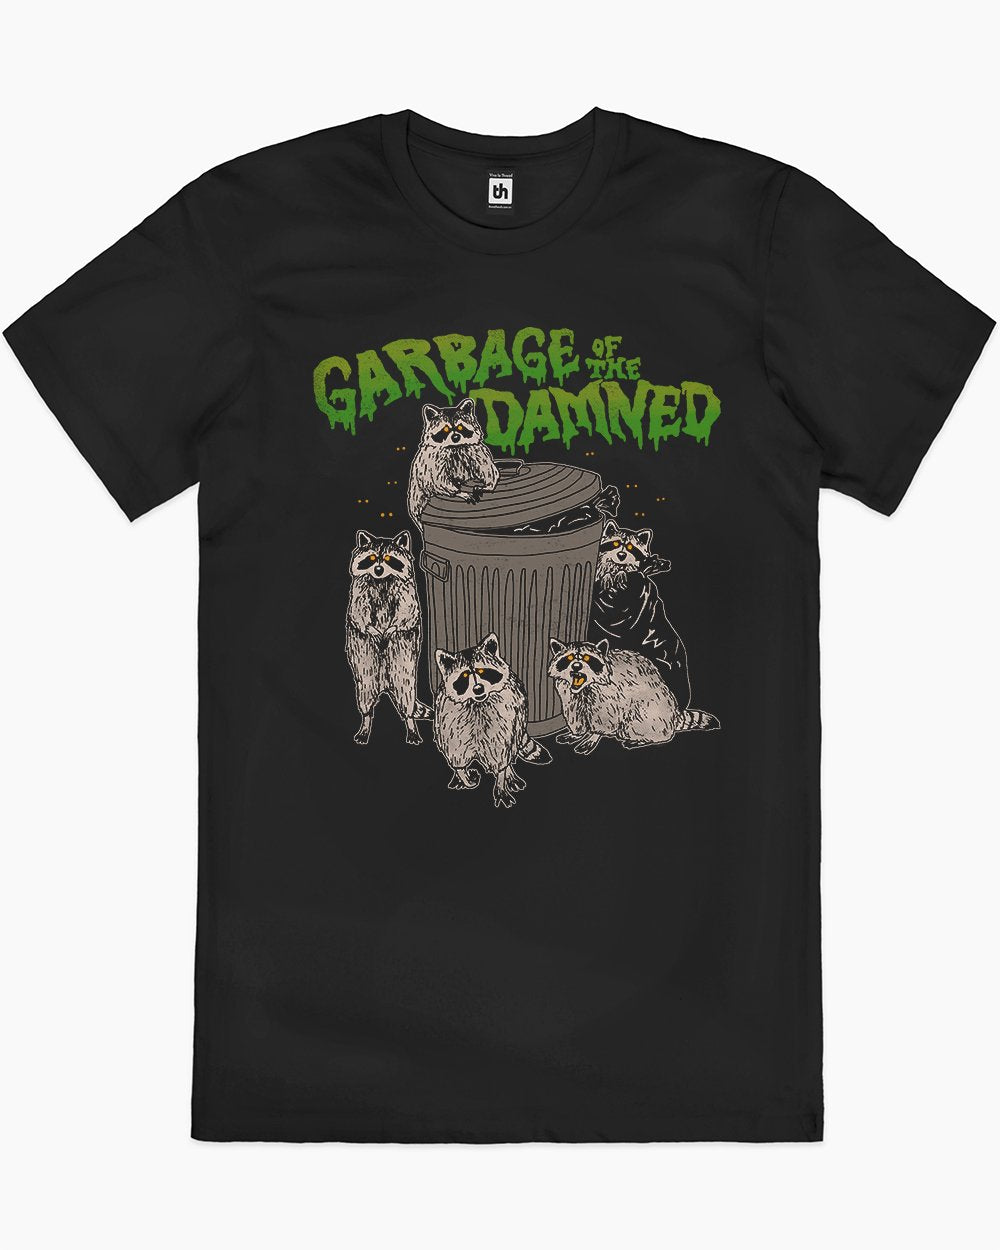design: (305, 318, 731, 814)
